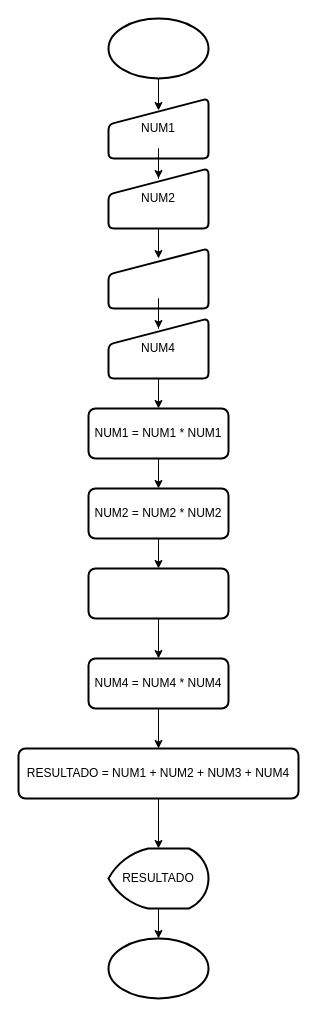
The diagram is 316 pixels wide and 1016 high, and some of its shapes have lost their labels. Each missing label, with the box of its shape:
FIM: (107, 937, 209, 999)
INICIO: (107, 17, 209, 79)
NUM3: (107, 247, 209, 309)
NUM3 = NUM3 * NUM3: (87, 567, 229, 619)
